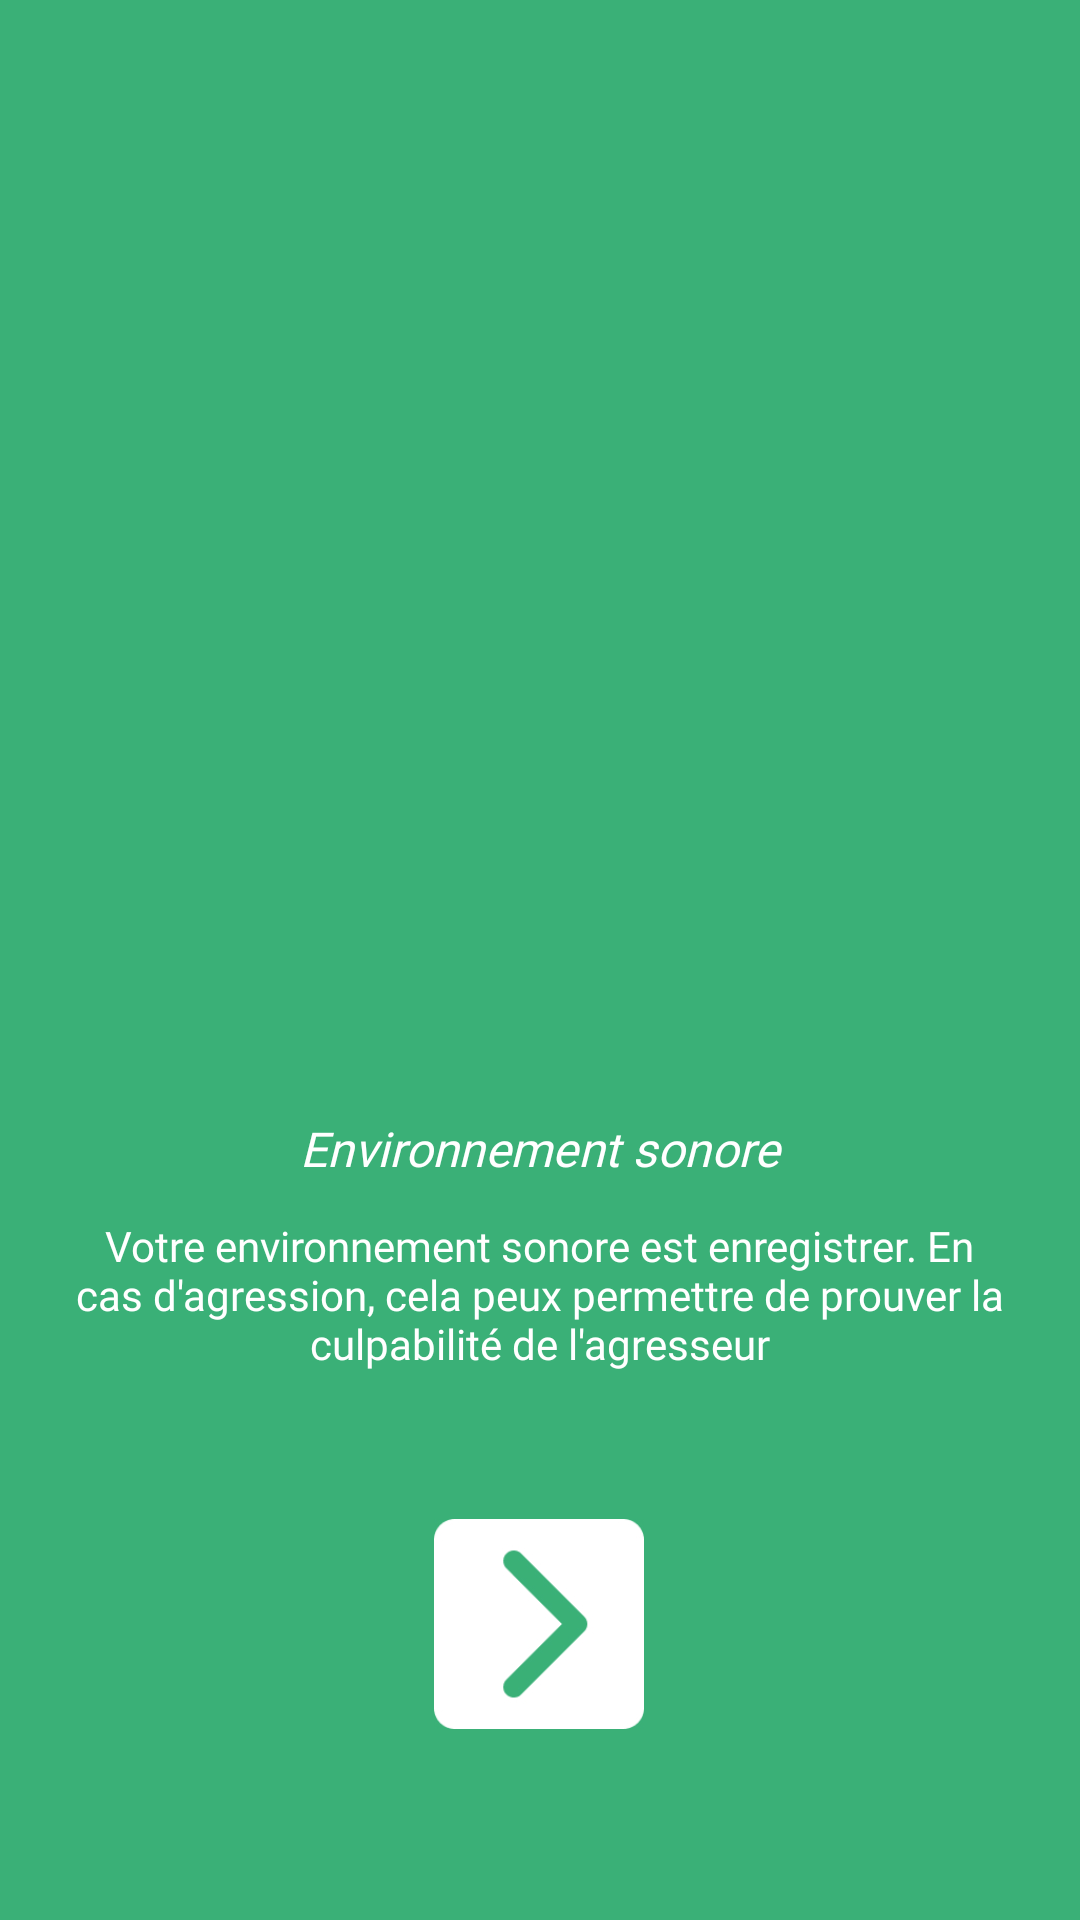

Locate icon controls on the screen. Image size 1080px x 1920px, boxes as [x1,y1,x2,y2].
fleche tuto: [434,1519,644,1729]
